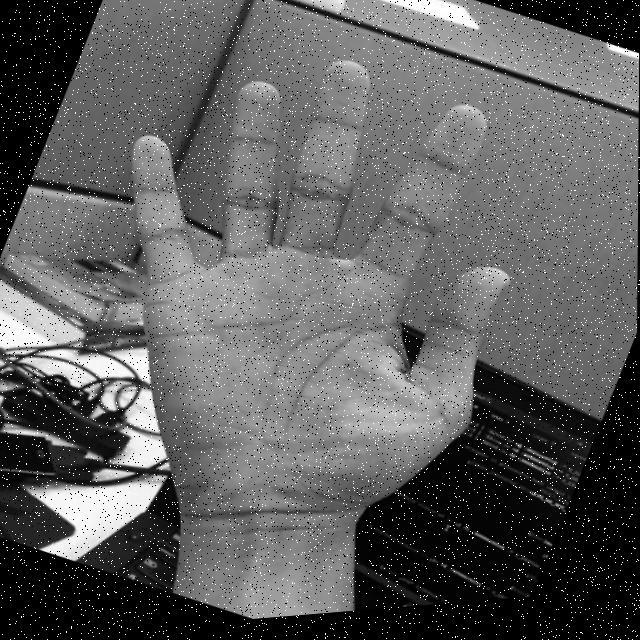no-gloves: (7, 0, 586, 611)
